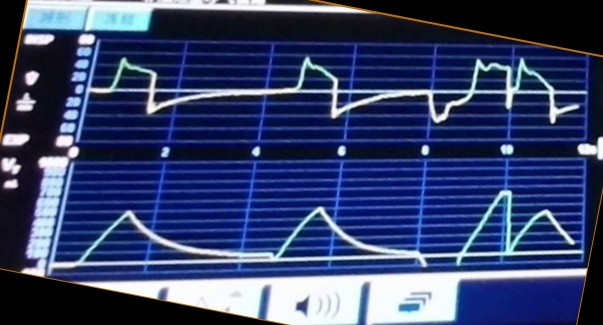Double_Triggering Flow: (96, 54, 581, 126)
Double_Triggering Volume: (67, 186, 573, 265)
